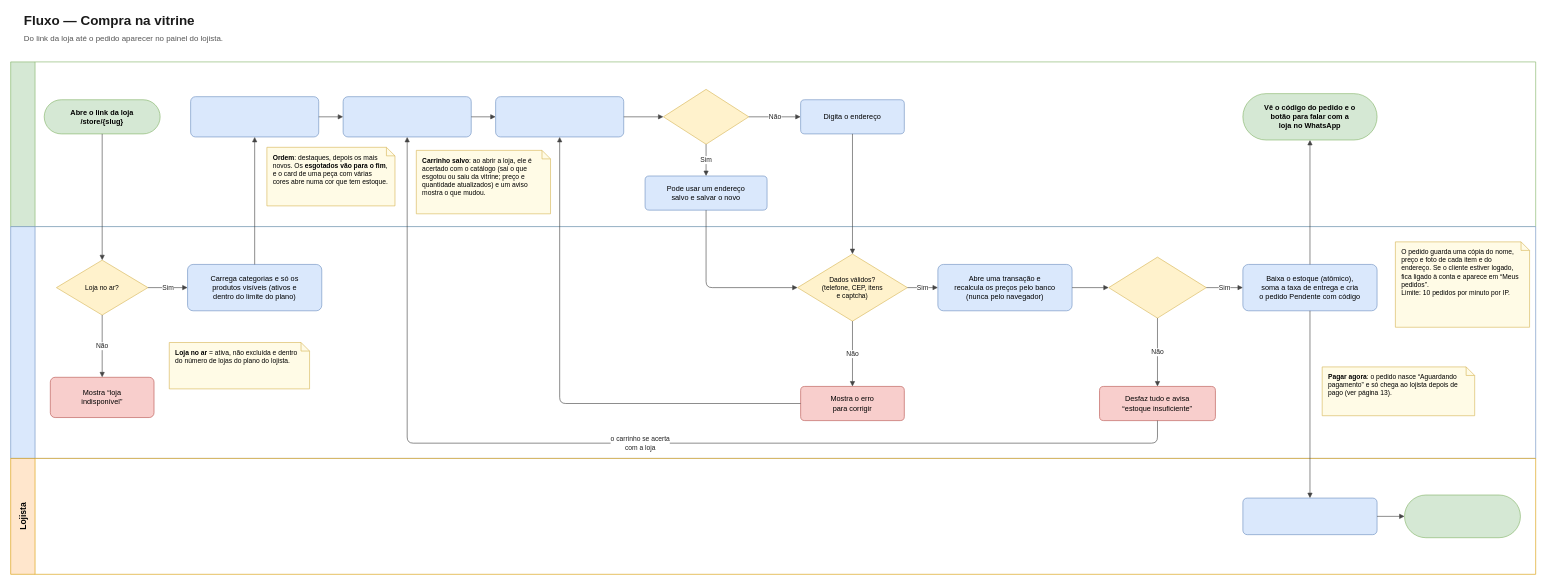
The diagram is 1546 pixels wide and 585 high, and some of its shapes have lost their labels. Here are the shapes that lost their labels. From the top down, the box of each, then its label:
(190, 96, 319, 137): Navega, filtra por categoria e abre um produto
(343, 96, 471, 137): Escolhe tamanho e cor e adiciona ao carrinho (salvo no navegador)
(495, 96, 624, 137): Finaliza: nome, telefone, endereço e o captcha (se a loja usar)
(663, 89, 749, 144): Está logado?
(10, 61, 1536, 227): Cliente (navegador)
(1108, 257, 1206, 318): Tem estoque de todos os itens?
(10, 226, 1536, 458): Vitrio (frontend + API)
(1242, 497, 1377, 535): Avisa o lojista: no painel (a cada 30s) e por e-mail
(1404, 494, 1520, 538): Confirma, envia e entrega (ver “Fluxo — Pedidos no painel”)
